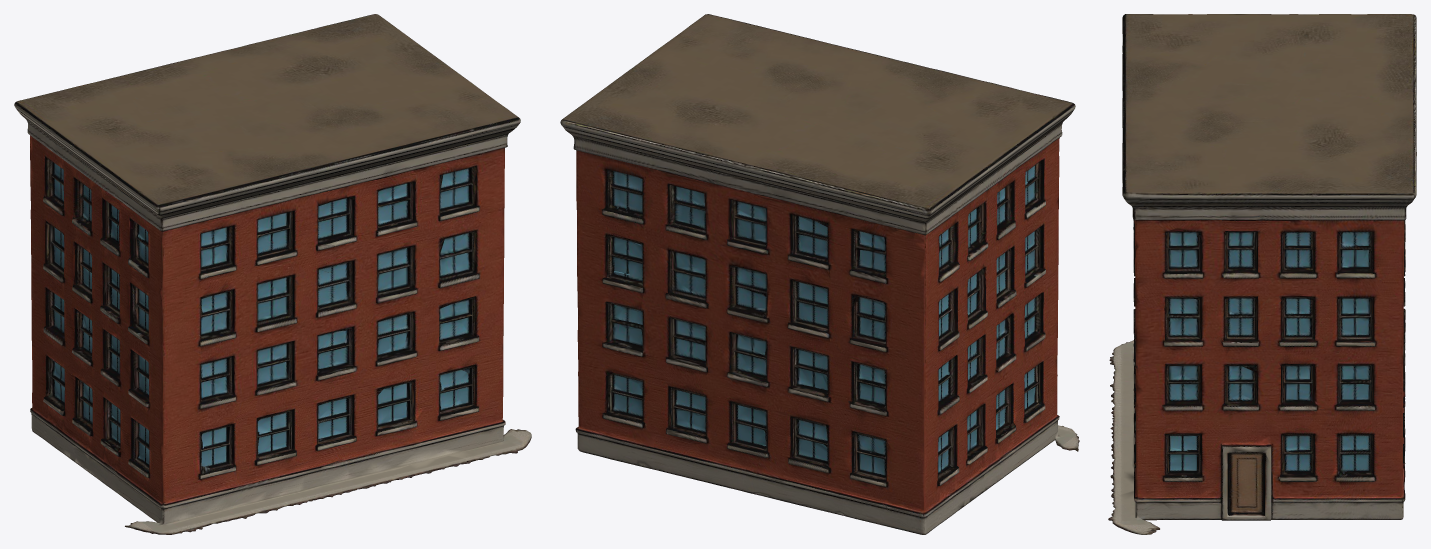
File: building3d1.glb
3 renders of one model, left to right at view 1: azimuth 30°, elevation 25°; view 2: azimuth 150°, elevation 25°; view 3: azimuth 270°, elevation 25°, orthographic.
Visible parts, largest first — view 1: tripo_node_fb1e8905-b283-4d8d-b1c8-7b6fa6d3fc7d; view 2: tripo_node_fb1e8905-b283-4d8d-b1c8-7b6fa6d3fc7d; view 3: tripo_node_fb1e8905-b283-4d8d-b1c8-7b6fa6d3fc7d.
Part boxes in pixels (x1,y1,x2,y2): tripo_node_fb1e8905-b283-4d8d-b1c8-7b6fa6d3fc7d: (14,14,531,534); tripo_node_fb1e8905-b283-4d8d-b1c8-7b6fa6d3fc7d: (560,14,1079,534); tripo_node_fb1e8905-b283-4d8d-b1c8-7b6fa6d3fc7d: (1108,14,1416,534).
Bounding box in the file's own units: 1 × 0.784 × 0.6582.
1 material, 1 textured.
